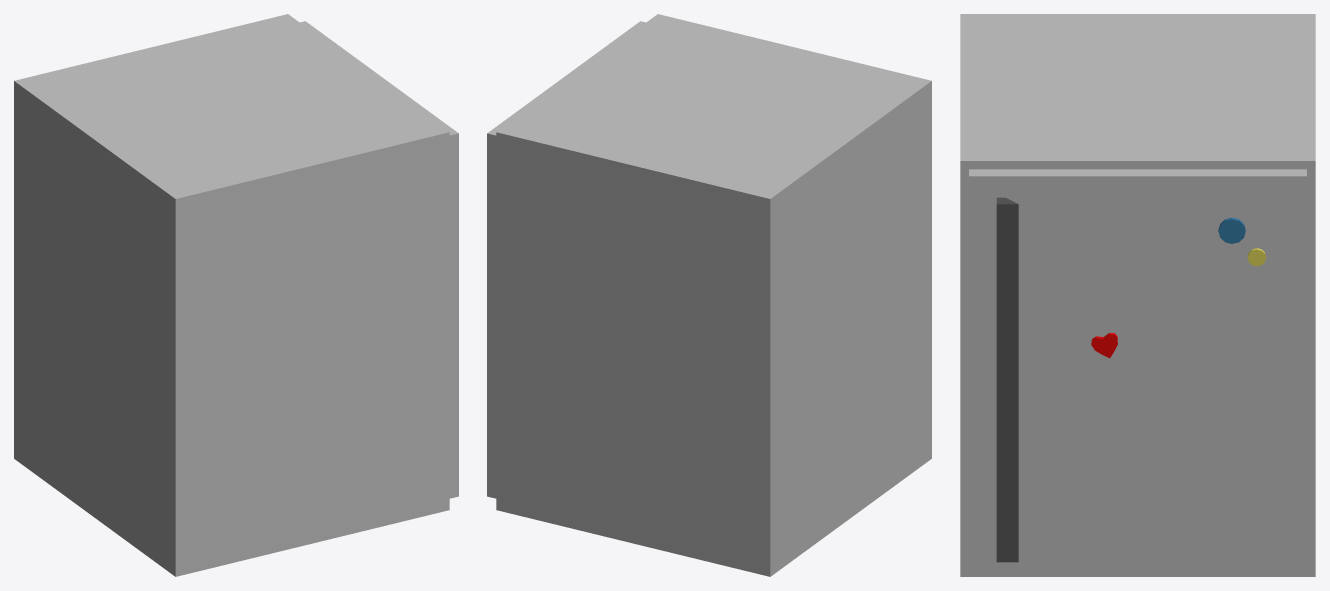
The model's file is Køleskab.fbx.
The picture shows the model from 3 angles, left to right: view 1: azimuth 30°, elevation 25°; view 2: azimuth 150°, elevation 25°; view 3: azimuth 270°, elevation 25°; orthographic projection. The views are drawn at different scales.
Parts seen in each view (by area): view 1: Køleskab; view 2: Køleskab; view 3: Køleskab.
Boxes of the visible parts, x1,y1,x2,y2 form: Køleskab: (14,14,458,576); Køleskab: (487,14,931,576); Køleskab: (960,14,1315,576).
Bounding box in the file's own units: 144 × 174 × 135.
